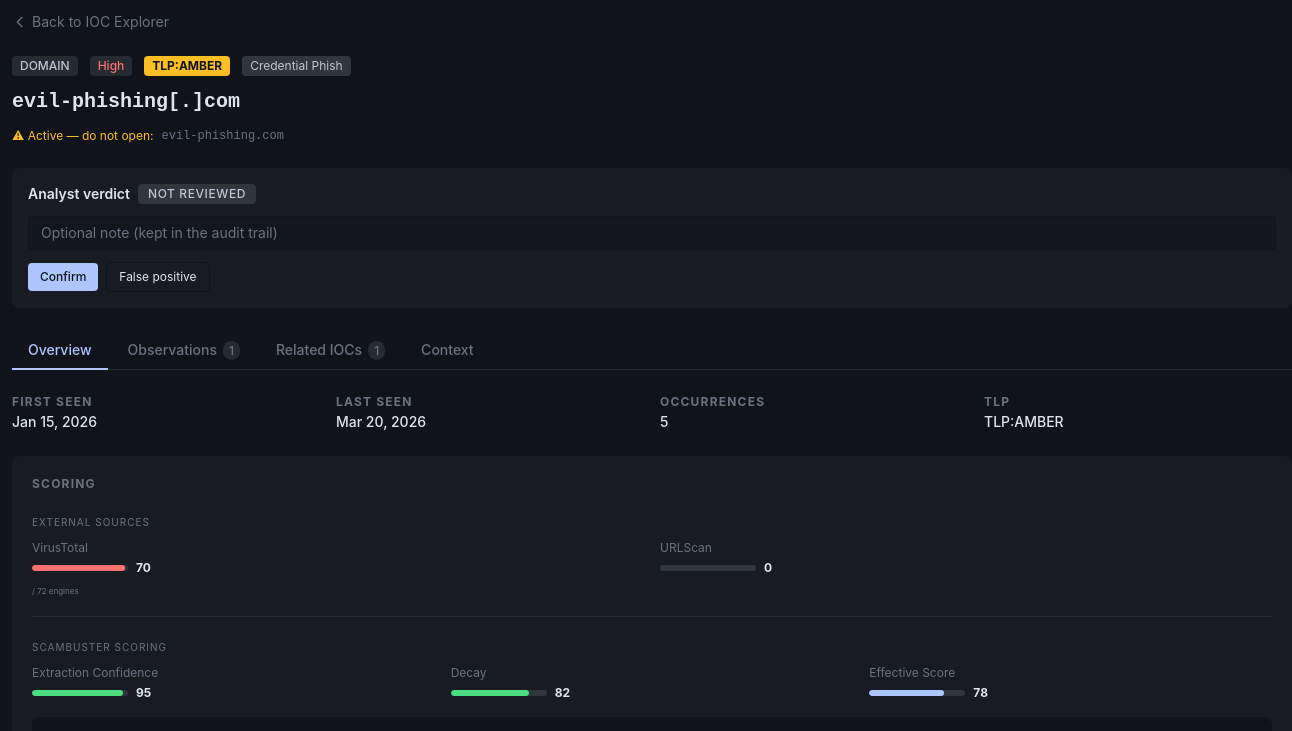
Test case: IocDetail › renders related IOCs tab
Check: the text "evil-phishing.com" is shown, box [162,128,284,144]
Note: Click related tab
Click the button "Related IOCs1".
click(330, 351)  # box [260,332,401,370]
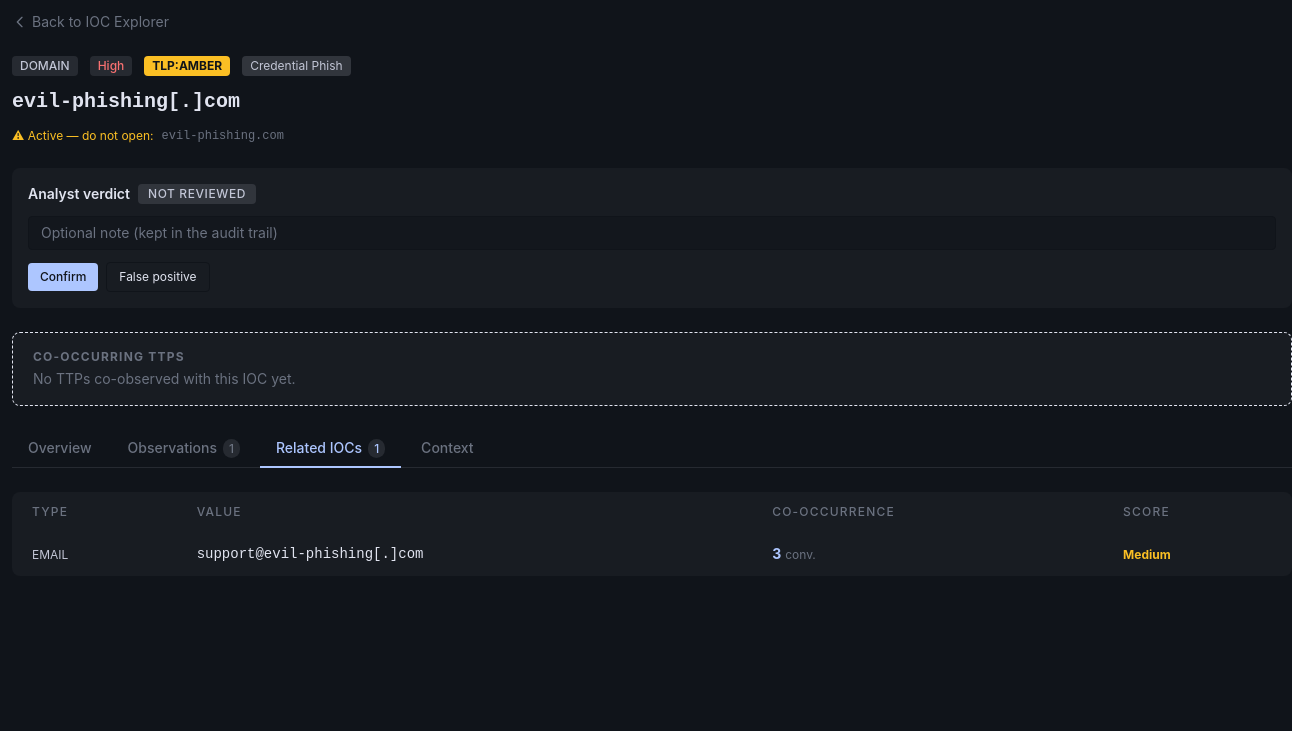
Check: the text "support@evil-phishing[.]com" is shown, box [177,532,752,576]
Check: the text "3" is shown, box [772,545,781,562]
